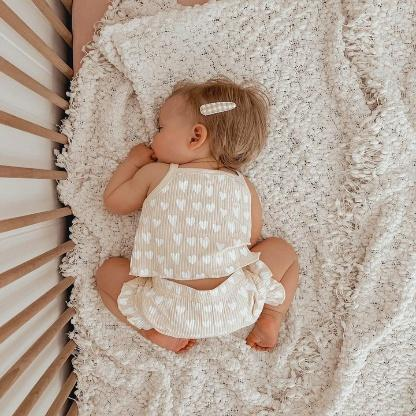baby: (95, 79, 300, 353)
